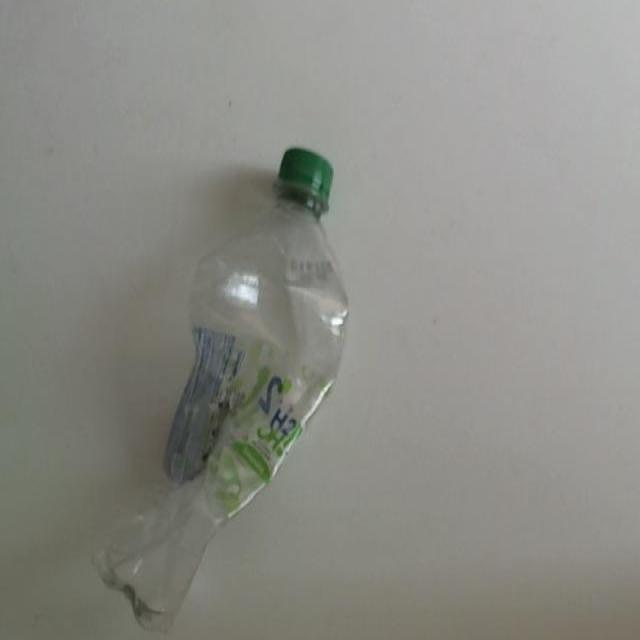defect: (91, 143, 353, 637)
